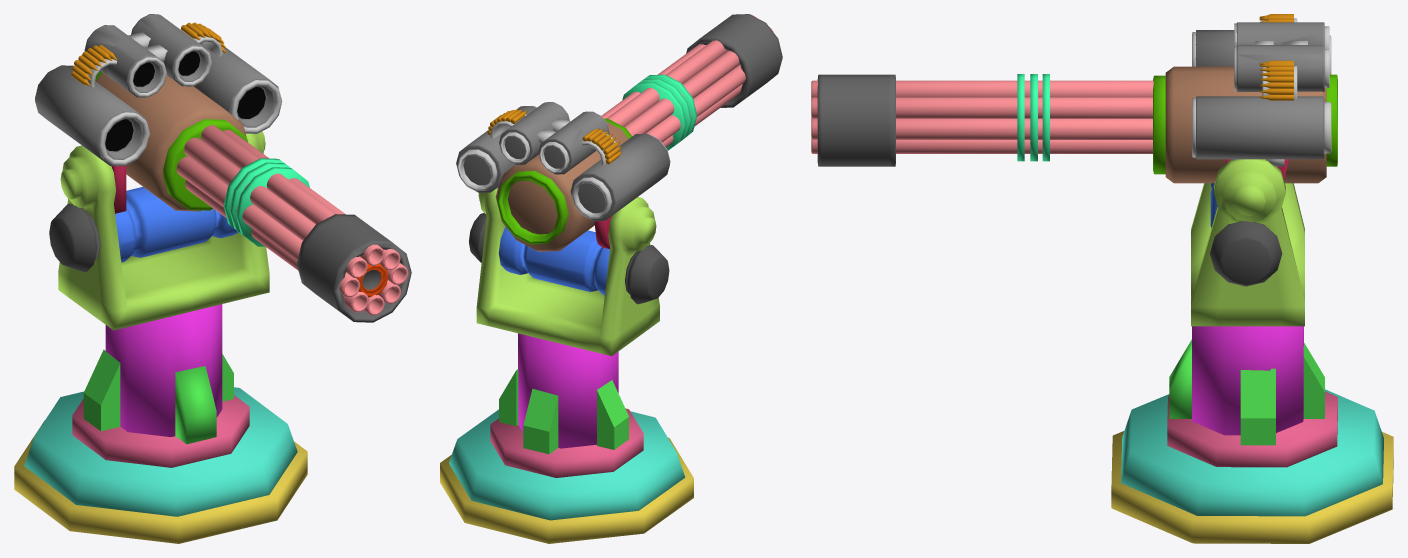
File: Gun_Turret_hard.fbx
3 renders of one model, left to right at view 1: azimuth 30°, elevation 25°; view 2: azimuth 150°, elevation 25°; view 3: azimuth 270°, elevation 25°, orthographic. The views are drawn at different scales.
Parts seen in each view (by area): view 1: TOP4, Top1.002, TOP5, top3.002, top2.002; view 2: TOP4, Top1.002, top3.002, TOP5, top2.002; view 3: Top1.002, TOP4, TOP5, top2.002, top3.002.
Part boxes in pixels (x1,y1,x2,y2): TOP4: (35,14,282,271); Top1.002: (14,387,307,543); TOP5: (176,125,411,322); top3.002: (58,131,269,330); top2.002: (83,304,233,444); TOP4: (456,102,670,304); Top1.002: (440,408,693,543); top3.002: (476,189,659,355); TOP5: (601,14,782,150); top2.002: (499,333,628,454); Top1.002: (1111,389,1393,543); TOP4: (1153,14,1337,286); TOP5: (811,74,1153,166); top2.002: (1169,326,1324,445); top3.002: (1191,159,1304,326).
Size of the model in its own units: 81.9 by 144 by 169.
